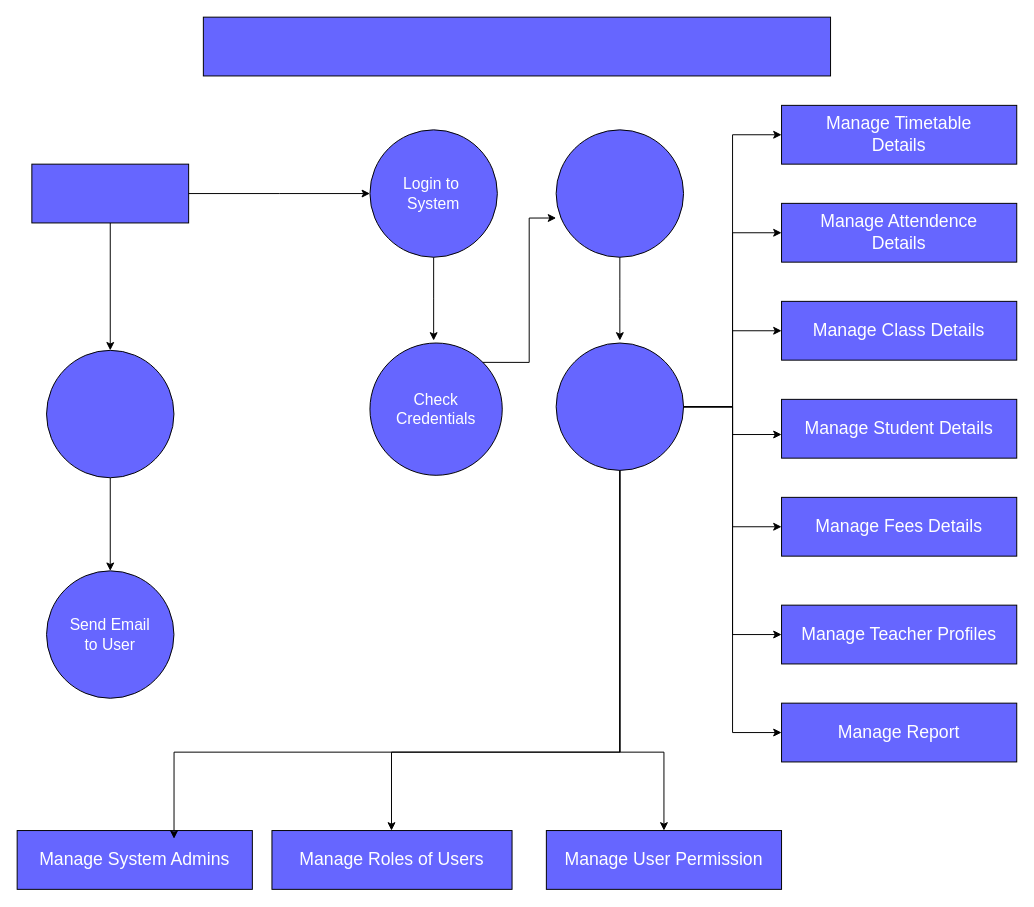
This 1034x907 diagram has some shape labels left out. The shapes that lost their labels are listed below. From the top down, each one's centre as x and y in pixels, then its label:
At pixel 516 46: "Students Information System".
At pixel 110 193: "Actions".
At pixel 619 193: "Check Roles of Access".
At pixel 110 413: "Forget password".
At pixel 619 406: "Manage Modules".
